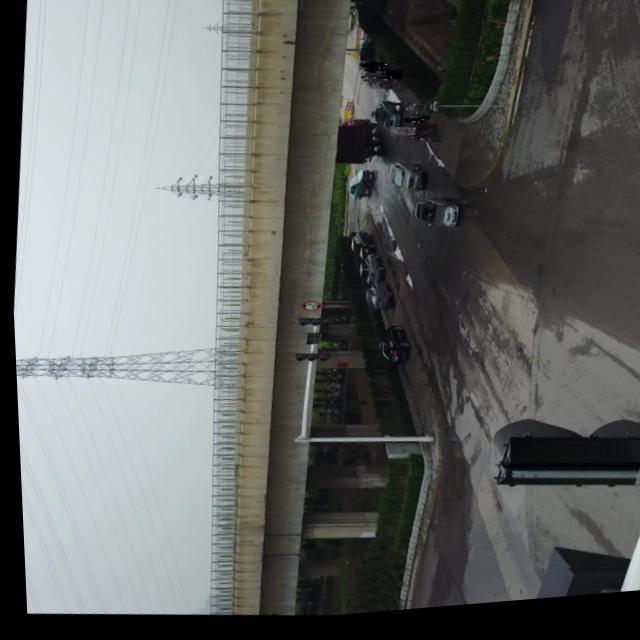Person: (374, 74, 401, 86), (372, 67, 396, 79), (388, 131, 414, 142), (358, 65, 383, 76), (401, 113, 421, 126), (360, 71, 385, 81), (360, 77, 386, 86), (404, 108, 425, 119), (403, 120, 422, 129)
